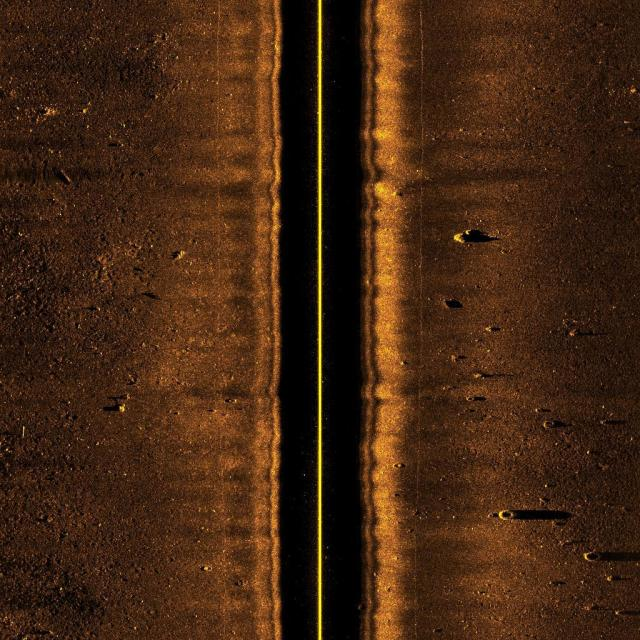mine: (102, 404, 137, 414), (56, 167, 76, 184), (440, 297, 464, 309)
other: (484, 506, 572, 525), (579, 547, 640, 569), (452, 230, 496, 248)
